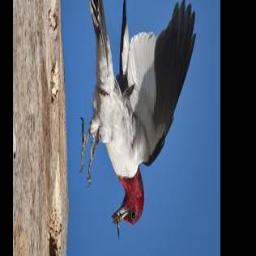Woodpecker: (80, 0, 197, 234)
